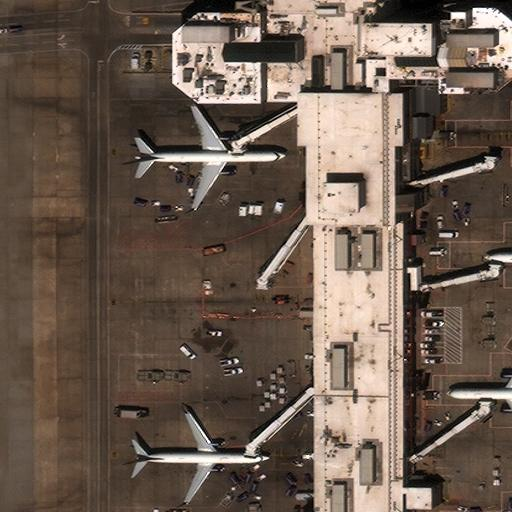Large Civil Transport: (133, 106, 288, 210), (444, 354, 511, 433)
Medium Civil Transport: (133, 410, 271, 504)
